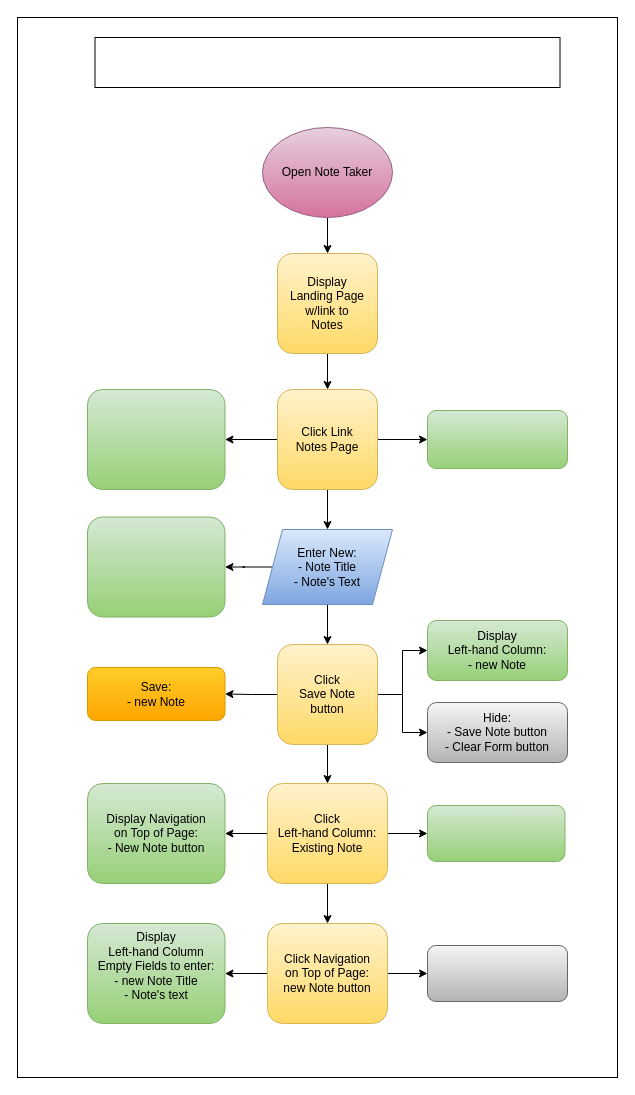
This 635x1095 diagram has some shape labels left out. The shapes that lost their labels are listed below. From the top down, each one's centre as x and y in pixels, then its label:
the point at 327,62: Note Taker State Flow Diagram
the point at 155,439: Display Left-hand Column: - Existing Notes - Empty Note Field
the point at 497,439: Display Right-hand Column: - Note's Text
the point at 155,566: Display Navigation on Top of Page: - Save Note button - Clear Form button
the point at 495,833: Display Right-hand Column: - Selected Notes
the point at 497,973: Hide: - new Note button
